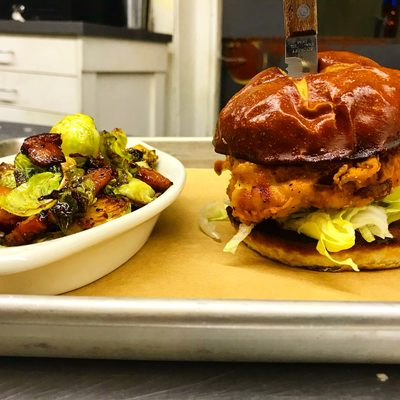soup: (213, 58, 400, 272)
sushi: (0, 115, 186, 296)
